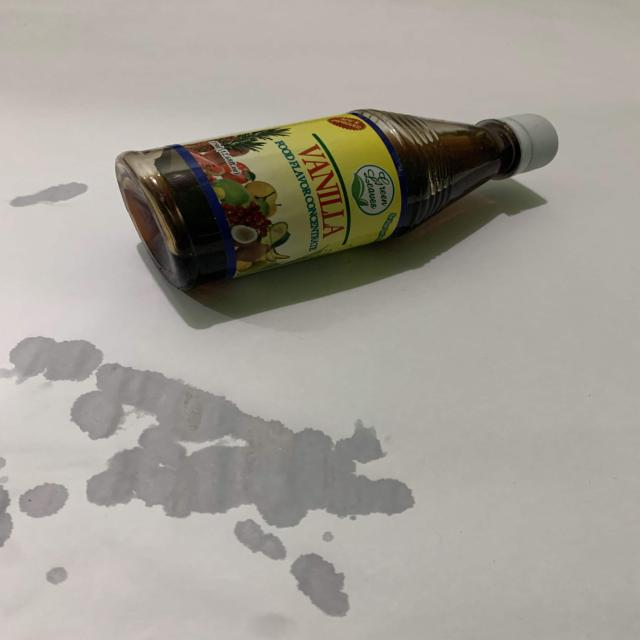bottle: (104, 100, 578, 310)
